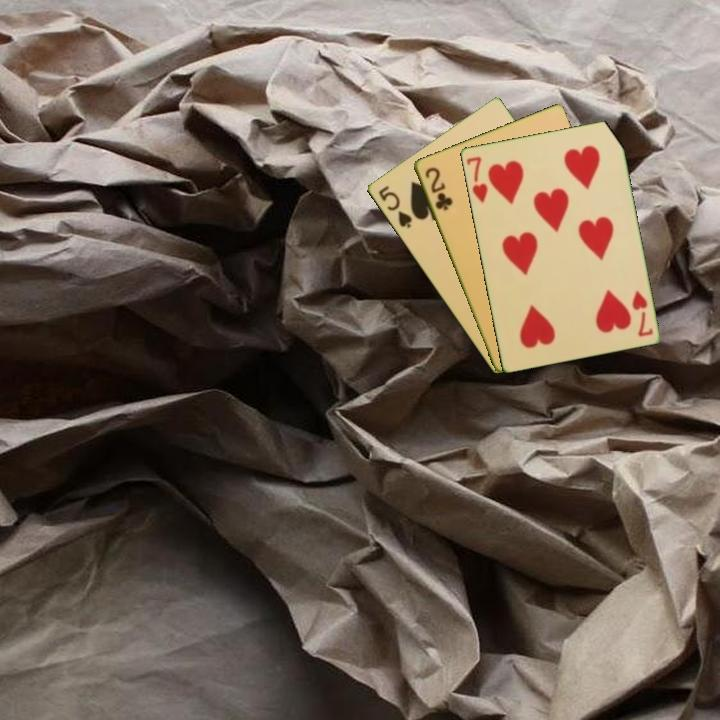2c: (421, 163, 455, 213)
5s: (374, 182, 415, 231)
7h: (628, 287, 656, 339), (463, 153, 490, 205)
